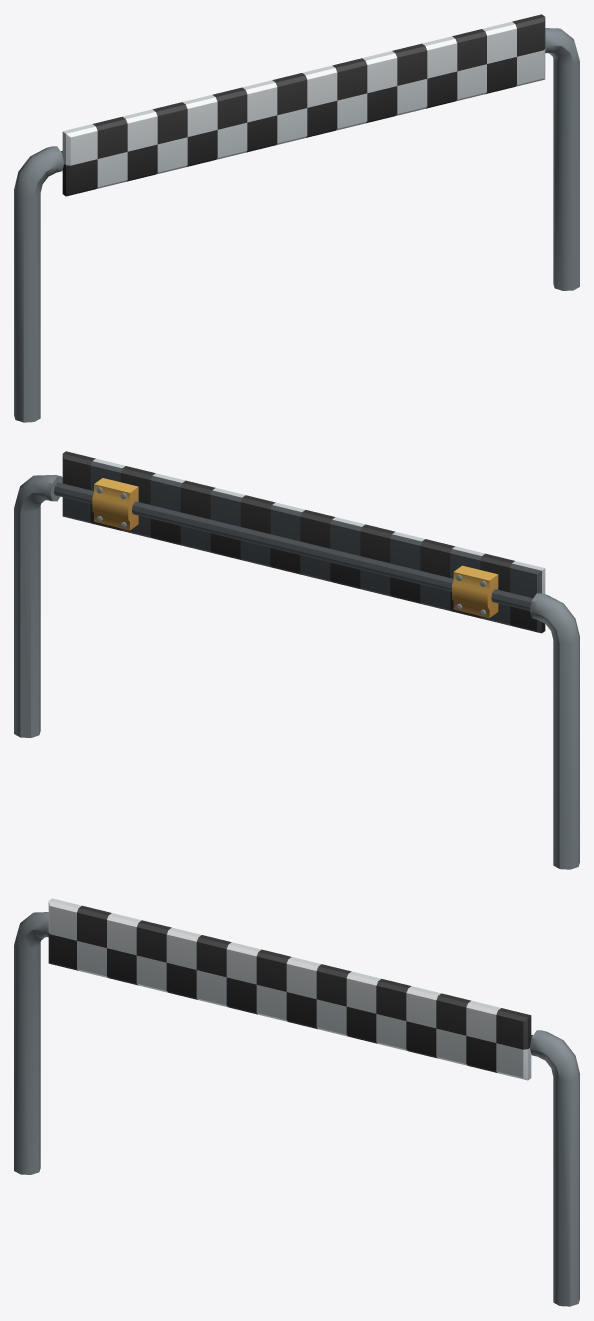
File: signage-finish-wide.glb
3 renders of one model, top to bottom at view 1: azimuth 30°, elevation 25°; view 2: azimuth 150°, elevation 25°; view 3: azimuth 330°, elevation 25°, orthographic.
Parts seen in each view (by area): view 1: signage_finish_wide_board, signage_finish_wide; view 2: signage_finish_wide_board, signage_finish_wide; view 3: signage_finish_wide_board, signage_finish_wide.
Part boxes in pixels (box(x1,y1,x2,y2)): signage_finish_wide_board: box(62, 14, 545, 196); signage_finish_wide: box(14, 28, 579, 422); signage_finish_wide_board: box(62, 451, 545, 633); signage_finish_wide: box(14, 475, 579, 869); signage_finish_wide_board: box(48, 898, 531, 1080); signage_finish_wide: box(14, 912, 579, 1306).
Size of the model in its own units: 9.4 by 4.5 by 0.5.
Materials: 1 (1 with a texture image).
